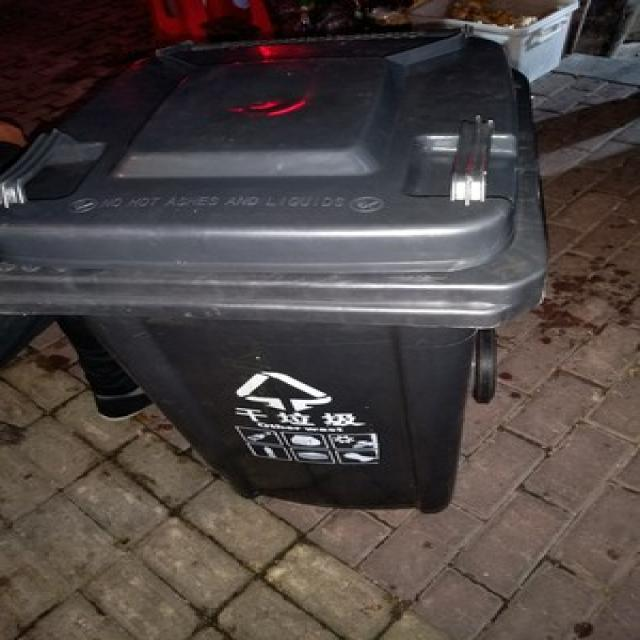ash bin: (2, 30, 548, 509)
